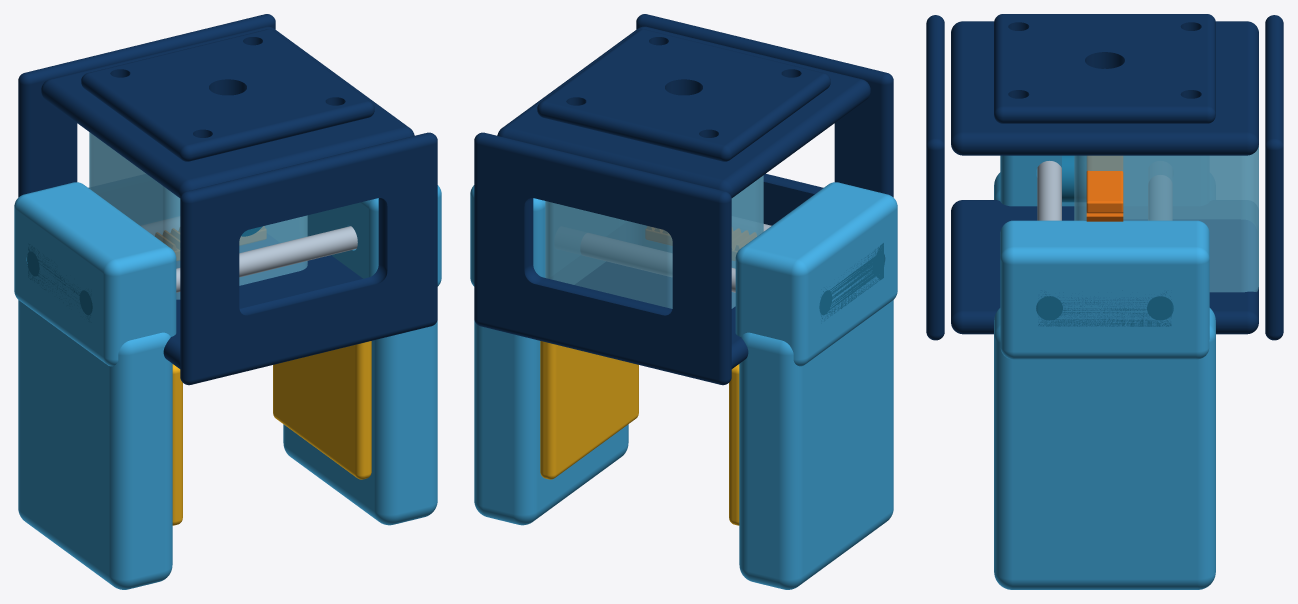
File: G01_detailed_gripper_open_candidate.glb
3 views of the same model, side by side, from view 1: azimuth 30°, elevation 25°; view 2: azimuth 150°, elevation 25°; view 3: azimuth 270°, elevation 25° (orthographic). The views are drawn at different scales.
Visible parts, largest first — view 1: L_FINGER_NEGATIVE, L_PALM_FRONT_PLATE, L_WRIST_MOUNT_PLATE, L_FINGER_POSITIVE, L_PALM_TOP_BRIDGE, L_PAD_POSITIVE, L_PALM_REAR_PLATE, L_ACTUATOR_VENDOR_CANDIDATE, L_PALM_BOTTOM_BRIDGE, L_GUIDE_ROD_FRONT, L_PAD_NEGATIVE, L_STOP_NEGATIVE (+1 smaller); view 2: L_FINGER_NEGATIVE, L_PALM_REAR_PLATE, L_WRIST_MOUNT_PLATE, L_FINGER_POSITIVE, L_PALM_TOP_BRIDGE, L_ACTUATOR_VENDOR_CANDIDATE, L_PALM_FRONT_PLATE, L_PAD_POSITIVE, L_PALM_BOTTOM_BRIDGE, L_GUIDE_ROD_REAR, L_STOP_NEGATIVE, L_PAD_NEGATIVE (+1 smaller); view 3: L_FINGER_POSITIVE, L_WRIST_MOUNT_PLATE, L_PALM_TOP_BRIDGE, L_ACTUATOR_VENDOR_CANDIDATE, L_PALM_BOTTOM_BRIDGE, L_PALM_FRONT_PLATE, L_PALM_REAR_PLATE, L_STOP_POSITIVE, L_RACK_POSITIVE, L_FINGER_NEGATIVE, L_GUIDE_ROD_FRONT, L_MANUAL_RELEASE_HUB (+1 smaller).
Part boxes in pixels (x1=…): L_FINGER_NEGATIVE: x1=14, y1=182, x2=176, y2=589; L_PALM_FRONT_PLATE: x1=180, y1=132, x2=437, y2=385; L_WRIST_MOUNT_PLATE: x1=81, y1=29, x2=374, y2=161; L_FINGER_POSITIVE: x1=283, y1=185, x2=441, y2=525; L_PALM_TOP_BRIDGE: x1=41, y1=26, x2=414, y2=197; L_PAD_POSITIVE: x1=273, y1=341, x2=371, y2=479; L_PALM_REAR_PLATE: x1=18, y1=14, x2=275, y2=197; L_ACTUATOR_VENDOR_CANDIDATE: x1=89, y1=132, x2=307, y2=299; L_PALM_BOTTOM_BRIDGE: x1=163, y1=234, x2=362, y2=368; L_GUIDE_ROD_FRONT: x1=176, y1=226, x2=357, y2=292; L_PAD_NEGATIVE: x1=172, y1=364, x2=182, y2=525; L_STOP_NEGATIVE: x1=27, y1=243, x2=92, y2=322; L_FINGER_NEGATIVE: x1=735, y1=182, x2=897, y2=589; L_PALM_REAR_PLATE: x1=474, y1=132, x2=731, y2=385; L_WRIST_MOUNT_PLATE: x1=537, y1=29, x2=830, y2=161; L_FINGER_POSITIVE: x1=470, y1=185, x2=628, y2=525; L_PALM_TOP_BRIDGE: x1=497, y1=26, x2=870, y2=197; L_ACTUATOR_VENDOR_CANDIDATE: x1=545, y1=175, x2=763, y2=308; L_PALM_FRONT_PLATE: x1=636, y1=14, x2=893, y2=225; L_PAD_POSITIVE: x1=540, y1=341, x2=638, y2=479; L_PALM_BOTTOM_BRIDGE: x1=575, y1=262, x2=748, y2=368; L_GUIDE_ROD_REAR: x1=580, y1=233, x2=735, y2=292; L_STOP_NEGATIVE: x1=819, y1=243, x2=884, y2=323; L_PAD_NEGATIVE: x1=729, y1=364, x2=739, y2=525; L_FINGER_POSITIVE: x1=994, y1=220, x2=1215, y2=589; L_WRIST_MOUNT_PLATE: x1=994, y1=14, x2=1215, y2=123; L_PALM_TOP_BRIDGE: x1=951, y1=21, x2=1258, y2=155; L_ACTUATOR_VENDOR_CANDIDATE: x1=1074, y1=145, x2=1258, y2=292; L_PALM_BOTTOM_BRIDGE: x1=951, y1=200, x2=1258, y2=334; L_PALM_FRONT_PLATE: x1=926, y1=15, x2=944, y2=340; L_PALM_REAR_PLATE: x1=1265, y1=15, x2=1283, y2=340; L_STOP_POSITIVE: x1=1036, y1=290, x2=1173, y2=326; L_RACK_POSITIVE: x1=1086, y1=156, x2=1123, y2=221; L_FINGER_NEGATIVE: x1=994, y1=155, x2=1074, y2=206; L_GUIDE_ROD_FRONT: x1=1037, y1=161, x2=1061, y2=220; L_MANUAL_RELEASE_HUB: x1=1062, y1=155, x2=1086, y2=202.
Size of the model in its own units: 66 by 81 by 58.
